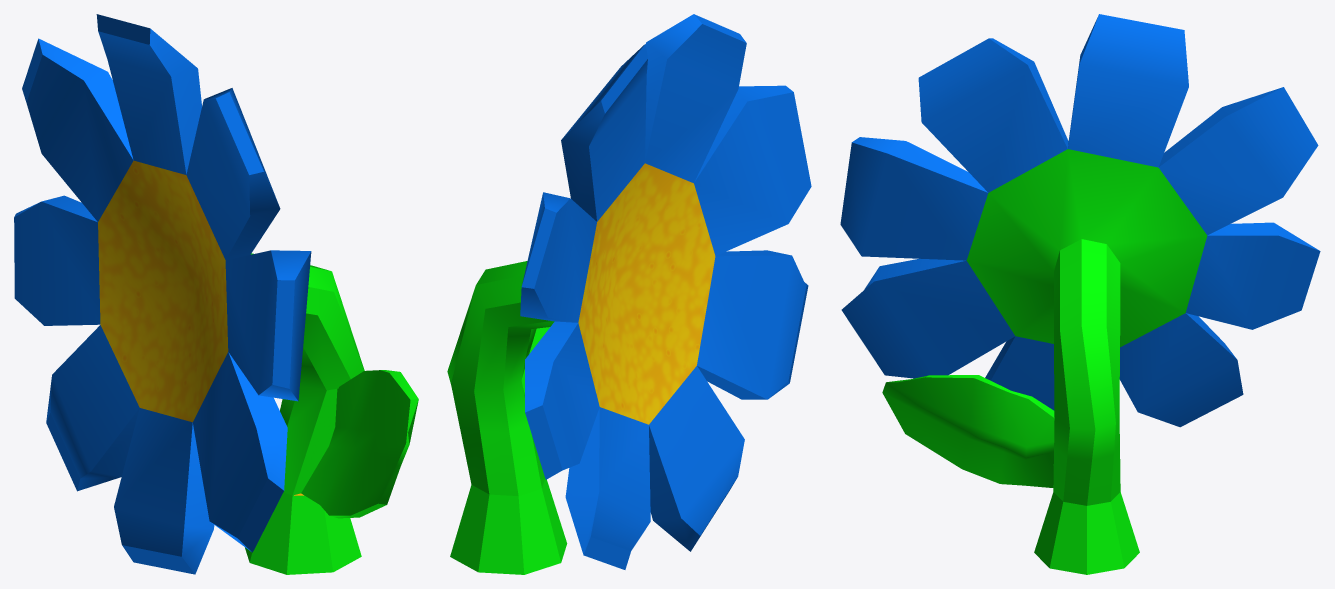
Rendered from Flower.fbx.
The picture shows the model from 3 angles, left to right: view 1: azimuth 30°, elevation 25°; view 2: azimuth 150°, elevation 25°; view 3: azimuth 270°, elevation 25°; orthographic projection. The views are drawn at different scales.
Parts seen in each view (by area): view 1: pCylinder1; view 2: pCylinder1; view 3: pCylinder1.
Boxes of the visible parts, <box> form: pCylinder1: <box>14,14,418,574</box>; pCylinder1: <box>447,14,811,574</box>; pCylinder1: <box>840,14,1320,574</box>.
Size of the model in its own units: 7.26 by 15.68 by 14.3.
